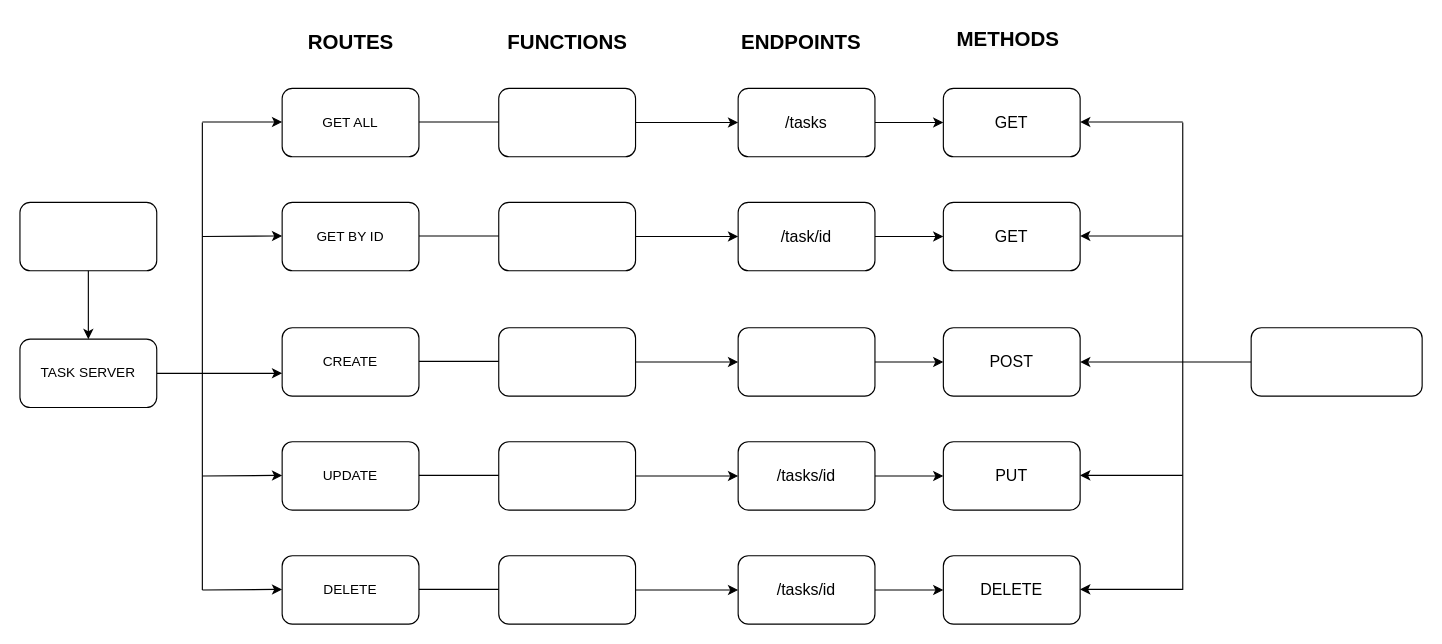
The diagram is 1442 pixels wide and 644 high, and some of its shapes have lost their labels. Each missing label, with the box of its shape:
/task: (737, 327, 875, 396)
createTask: (498, 327, 636, 396)
DATABASE: (19, 201, 157, 271)
deleteTask: (498, 555, 636, 624)
getTask: (498, 201, 636, 271)
listTasks: (498, 87, 636, 157)
POSTMAN / CURL: (1250, 327, 1422, 396)
updateTask: (498, 441, 636, 510)
